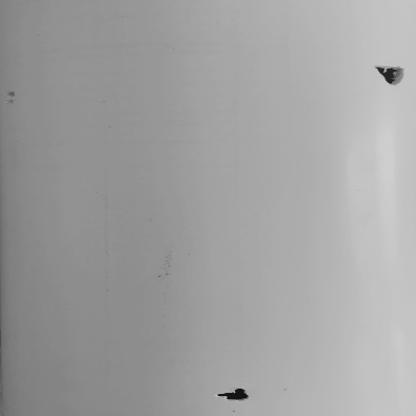kongdong: (371, 58, 411, 88), (202, 385, 268, 403)
